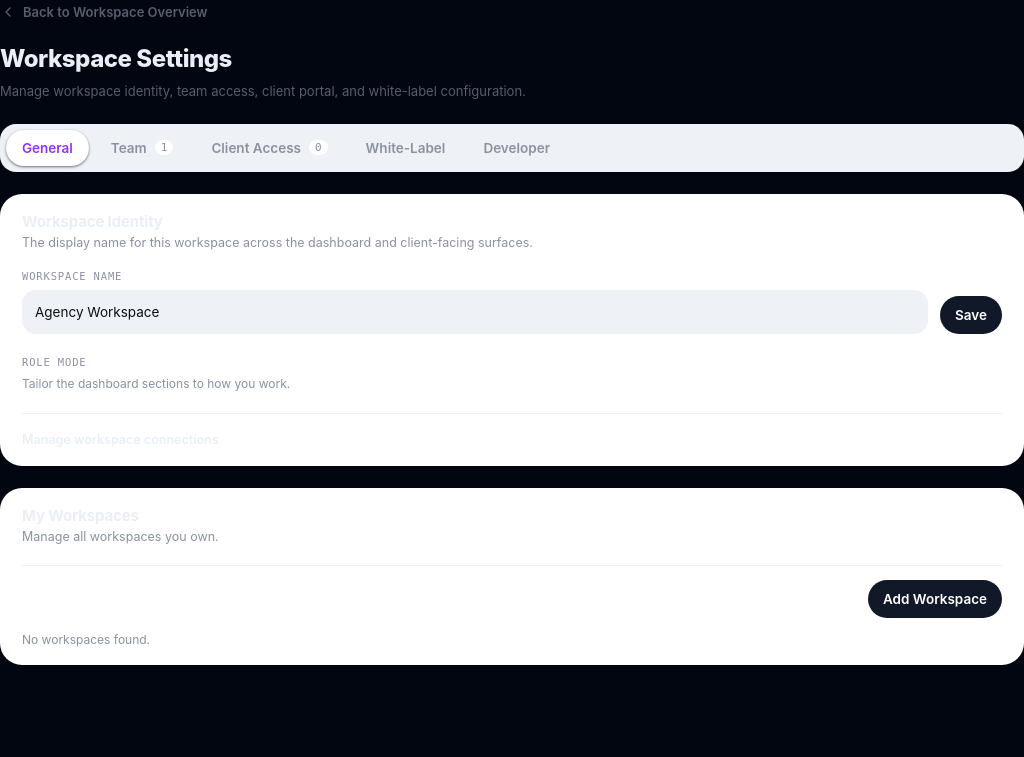
Test: WorkspaceSettingsPage › loads workspace cost breakdown data
Click the tab "Developer": [517, 148] box [467,130,566,166]
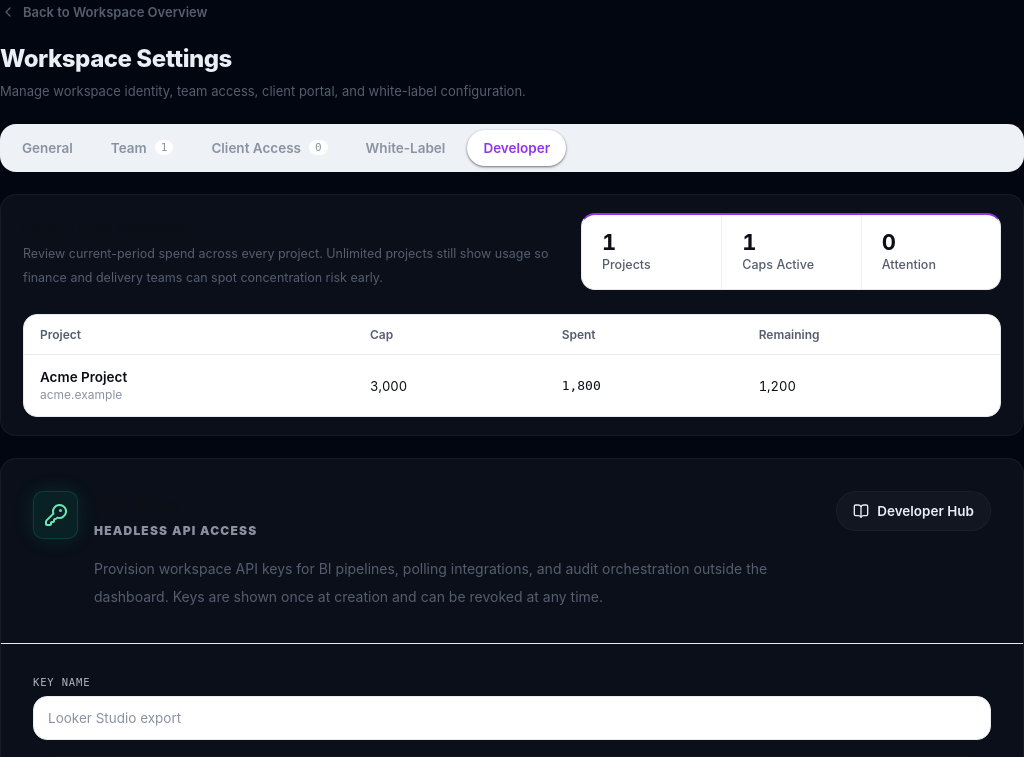
Check: the text "Caps Active" is shown, box [742,256,814,272]
Check: the text "3,000" is shown, box [354,355,546,416]
Check: the text "1,800" is shown, box [546,355,743,416]
